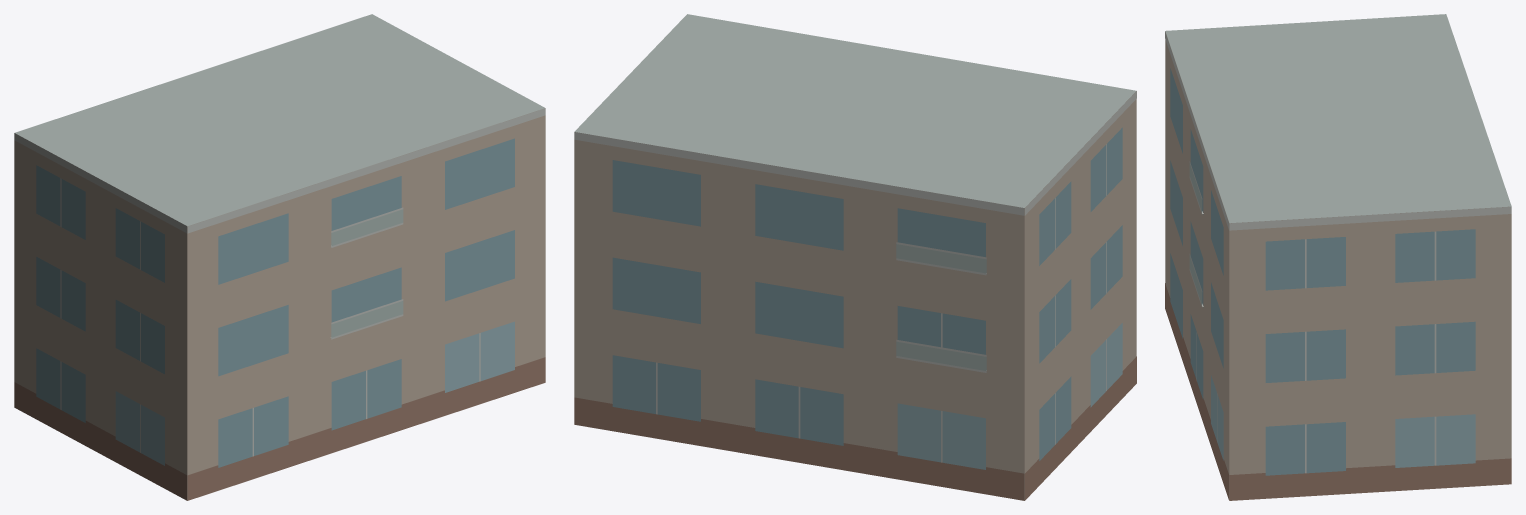
The model's file is survey-upis-32828890.glb.
3 renders of one model, left to right at view 1: azimuth 30°, elevation 25°; view 2: azimuth 150°, elevation 25°; view 3: azimuth 270°, elevation 25°, orthographic. The views are drawn at different scales.
Visible parts, largest first — view 1: survey-upis-32828890.tmp; view 2: survey-upis-32828890.tmp; view 3: survey-upis-32828890.tmp.
Boxes of the visible parts, <box> form: survey-upis-32828890.tmp: <box>14,14,545,500</box>; survey-upis-32828890.tmp: <box>574,14,1136,500</box>; survey-upis-32828890.tmp: <box>1165,14,1511,500</box>.
Bounding box in the file's own units: 14.79 × 9.15 × 10.36.
